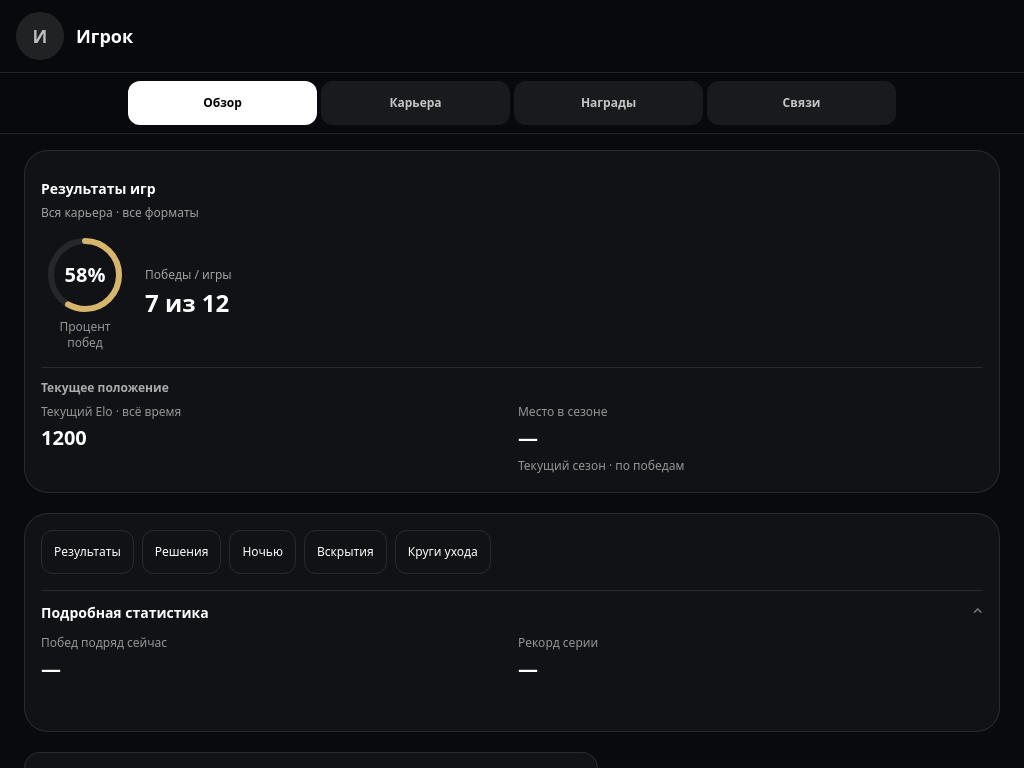
Scenario: CanonicalPremiumPlayerProfile › renders elo_after as the primary Elo value with the rounded delta (the old «До игры» line duplicated them)
The width and height of the screenshot is (1024, 768).
Expected: the heading "Игрок" is shown, [76,24,133,48]
Click the button "Карьера". click: point(416, 103)
box: [321,81,510,125]
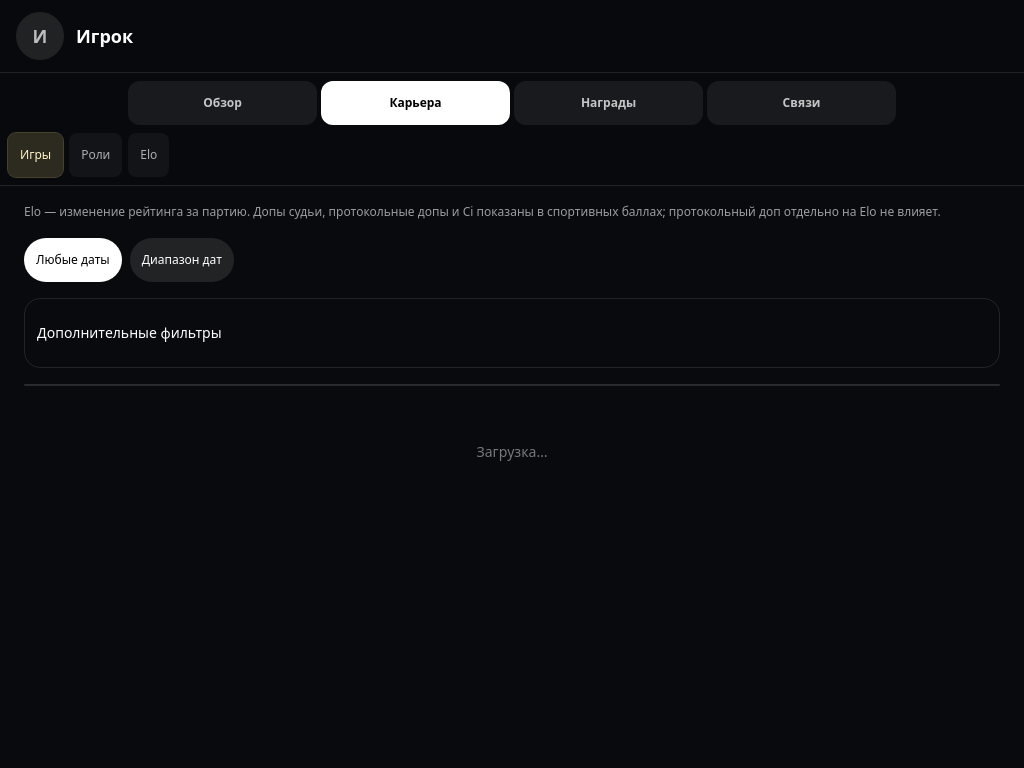
Click the button "Elo". click: point(149, 155)
box: [128,133,169,177]
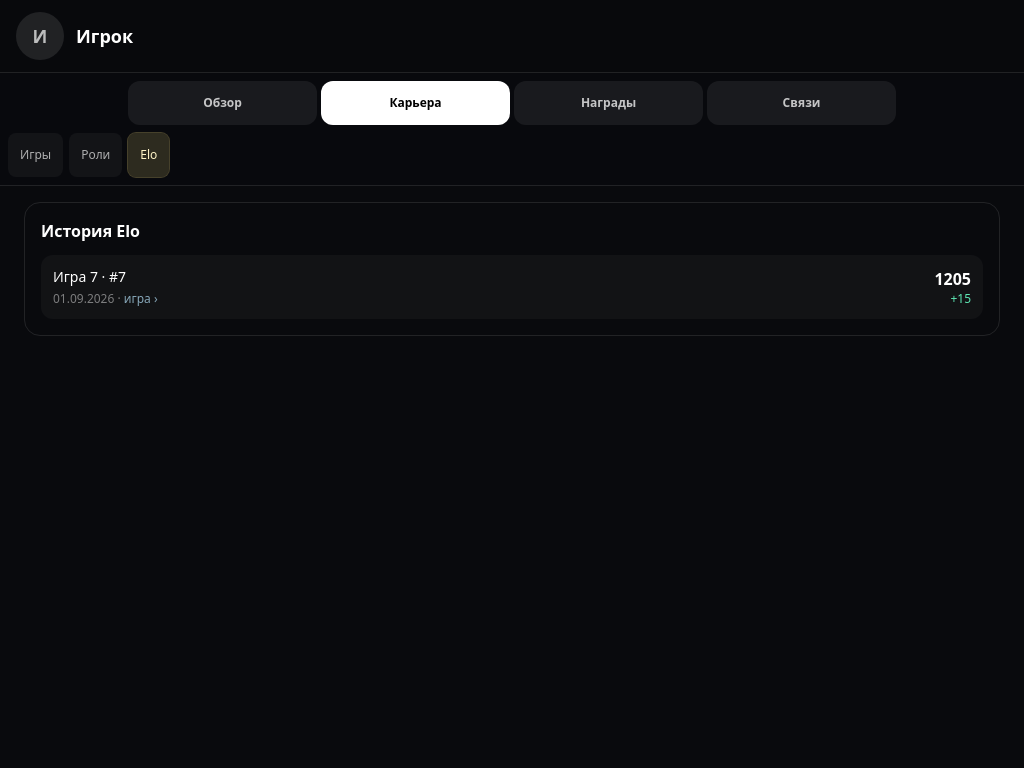
Result: the text "1205" is shown at [934,267,971,291]
Result: the text "+15" is shown at [950,290,971,307]
